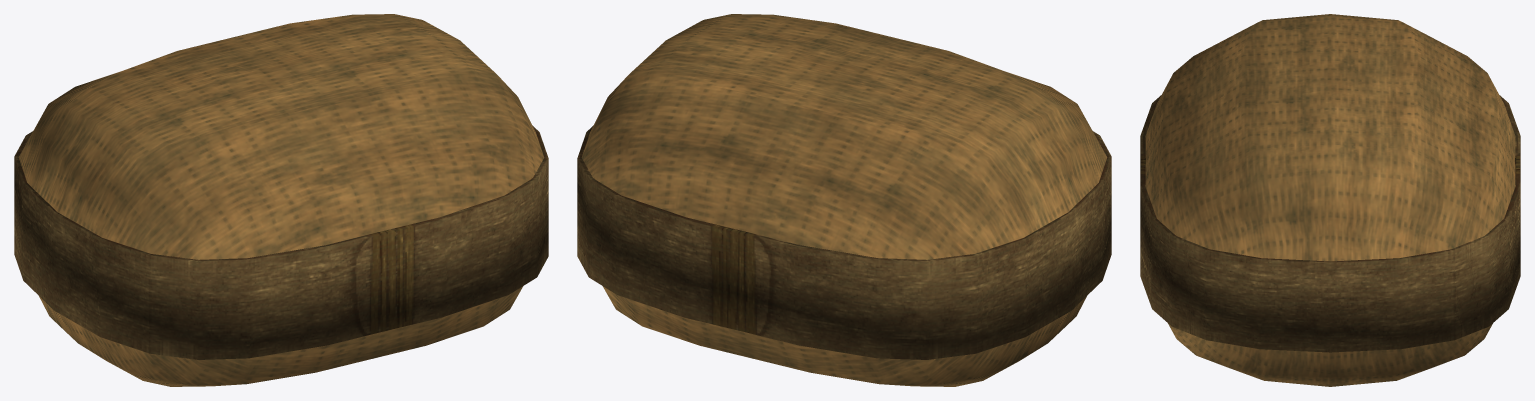
The model's file is dogbed.glb.
3 renders of one model, left to right at view 1: azimuth 30°, elevation 25°; view 2: azimuth 150°, elevation 25°; view 3: azimuth 270°, elevation 25°, orthographic. The views are drawn at different scales.
Visible parts, largest first — view 1: LOW_M_Wicker_Basket_0; view 2: LOW_M_Wicker_Basket_0; view 3: LOW_M_Wicker_Basket_0.
Boxes of the visible parts, box(x1,y1,x2,y2) form: LOW_M_Wicker_Basket_0: box(14, 14, 548, 386); LOW_M_Wicker_Basket_0: box(577, 14, 1111, 386); LOW_M_Wicker_Basket_0: box(1140, 14, 1520, 386).
Size of the model in its own units: 0.357 by 0.203 by 0.2825.
1 material, 1 textured.
